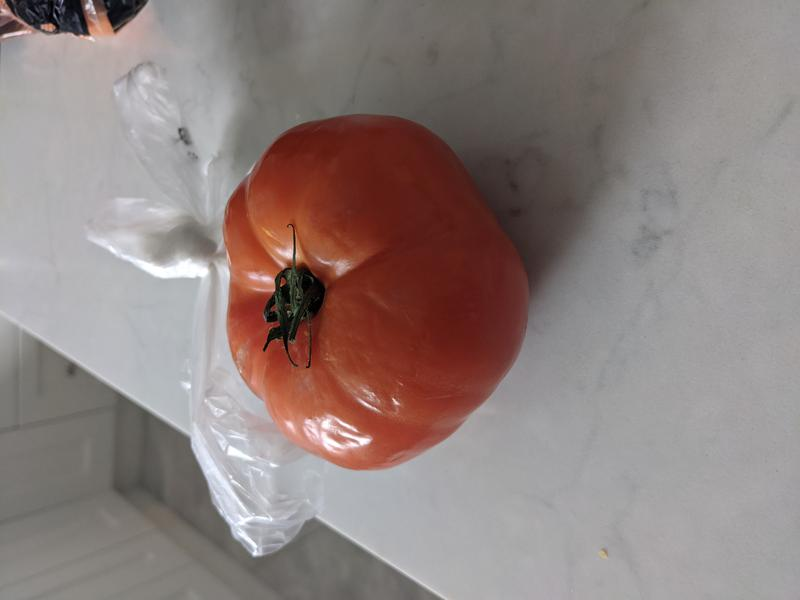tomato: (223, 115, 530, 470)
